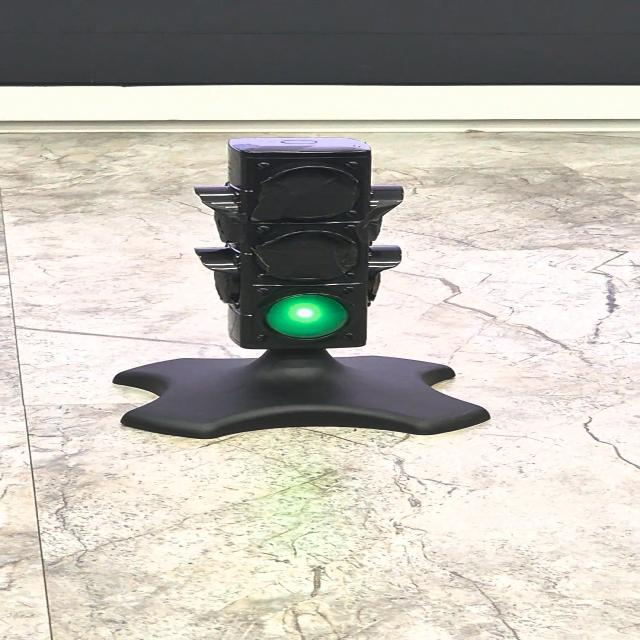green_light: (266, 295, 348, 338)
